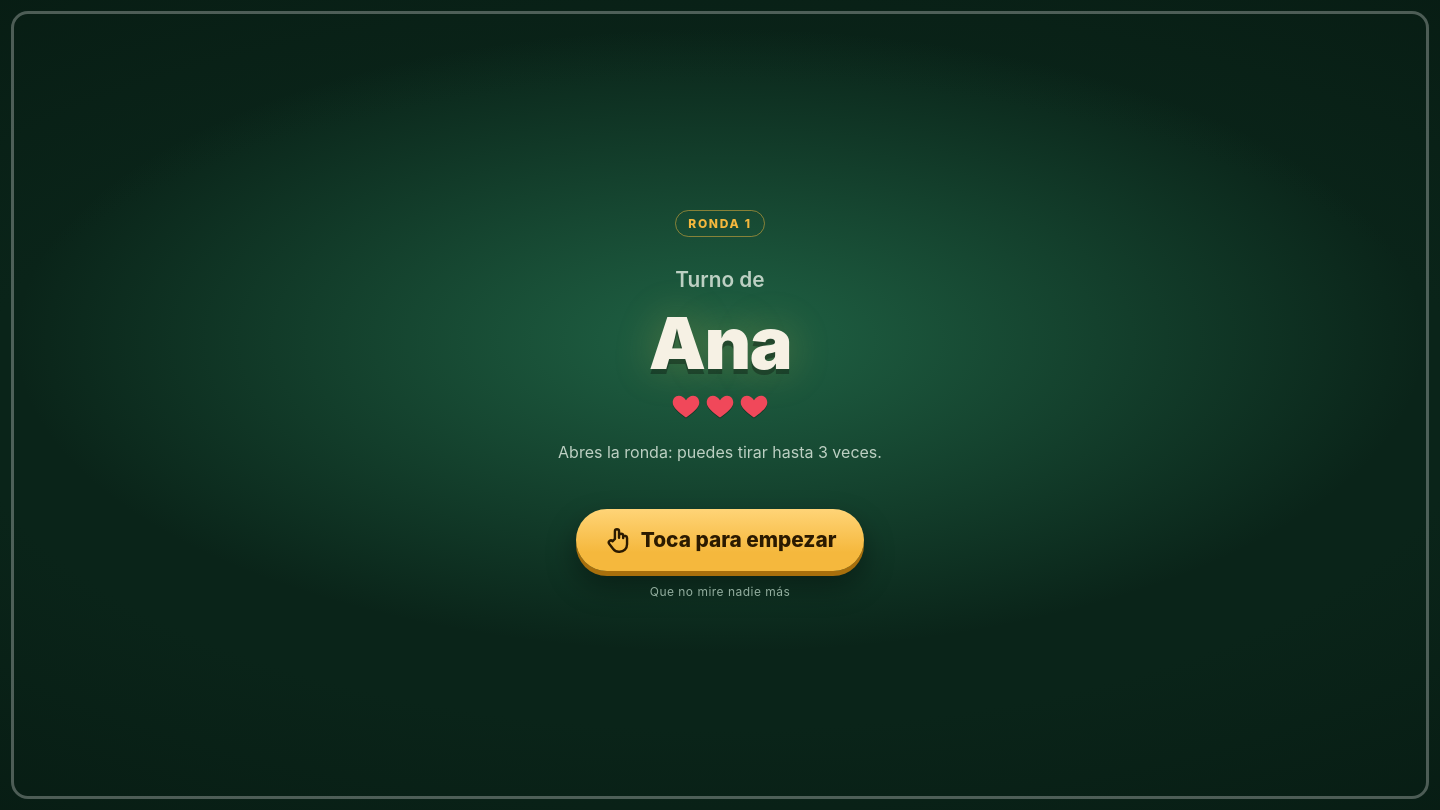
it: un turno completo: tirar, guardar, volver a tirar y plantarse con los 5 dados
Click the button at (86, 405), box [0,0,1439,809]
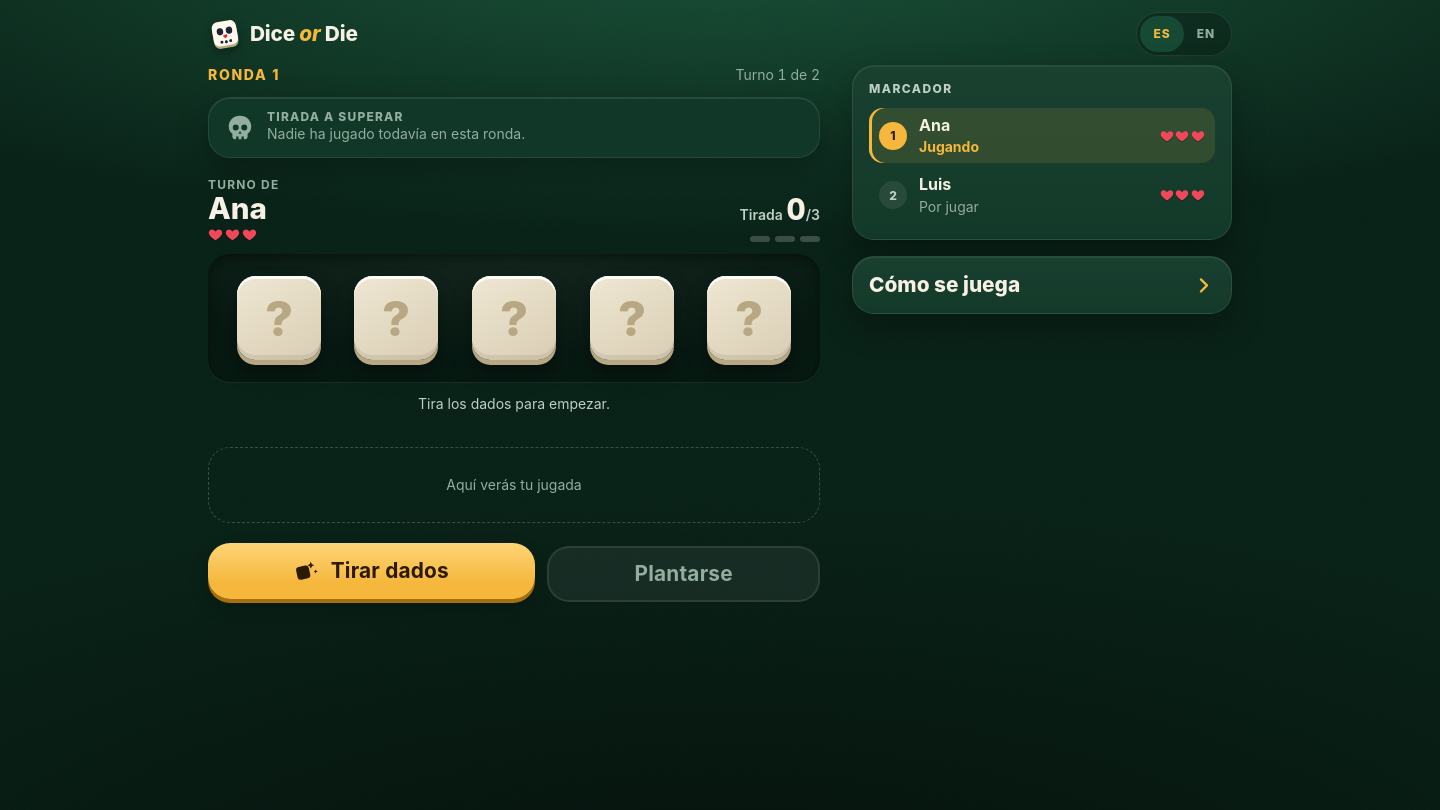
Expected: the 1st button "?" is disabled, [237,276,321,360]
Expected: the 2nd button "?" is disabled, [354,276,438,360]
Expected: the 3rd button "?" is disabled, [472,276,556,360]
Click the button "Tirar dados" at (372, 571), box [208,543,535,599]
Wait 500 ms
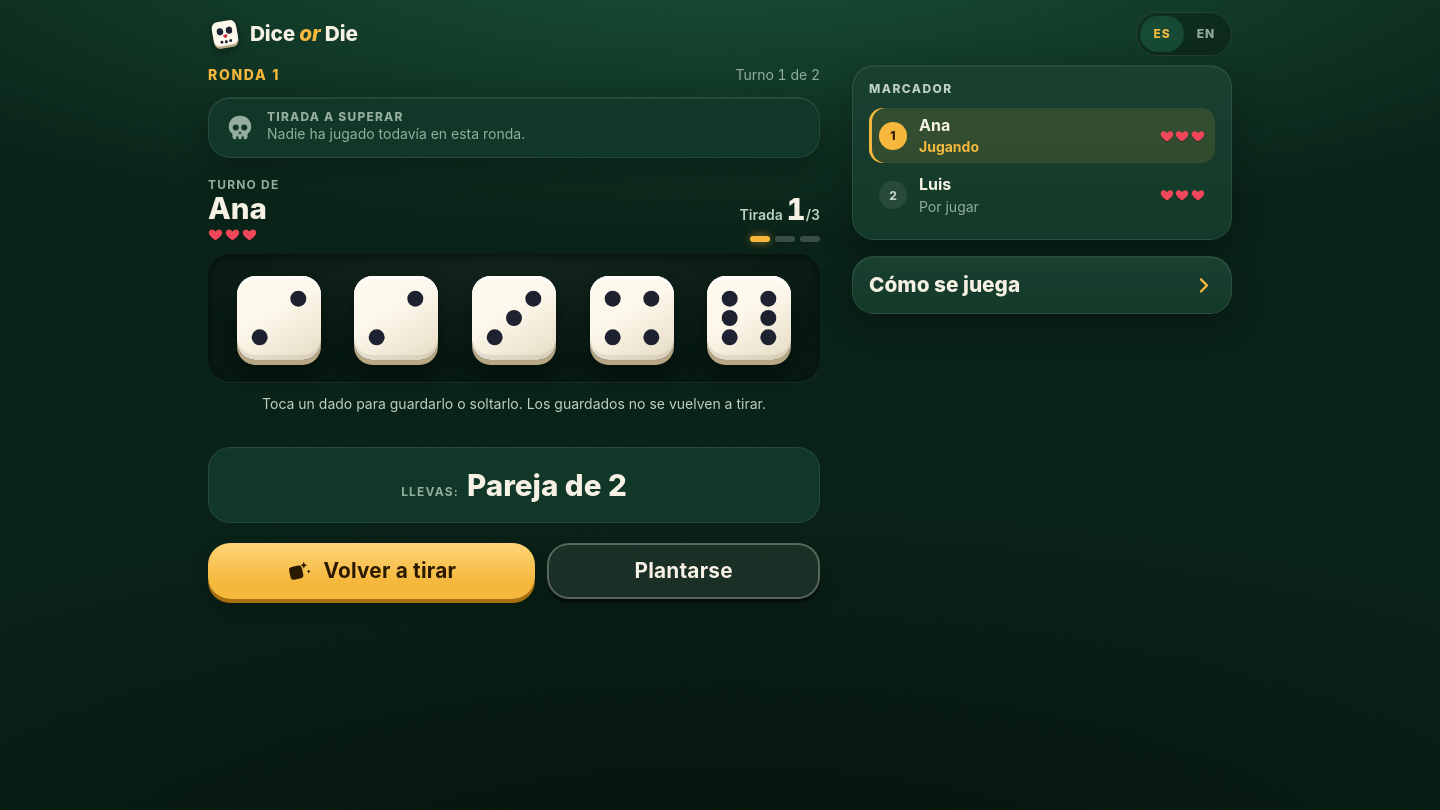
Expected: the element showing "Tirada 1/3" is shown, [740,188,820,230]
Click the 1st button named "Dado: 2" at (279, 318), box [237,276,321,360]
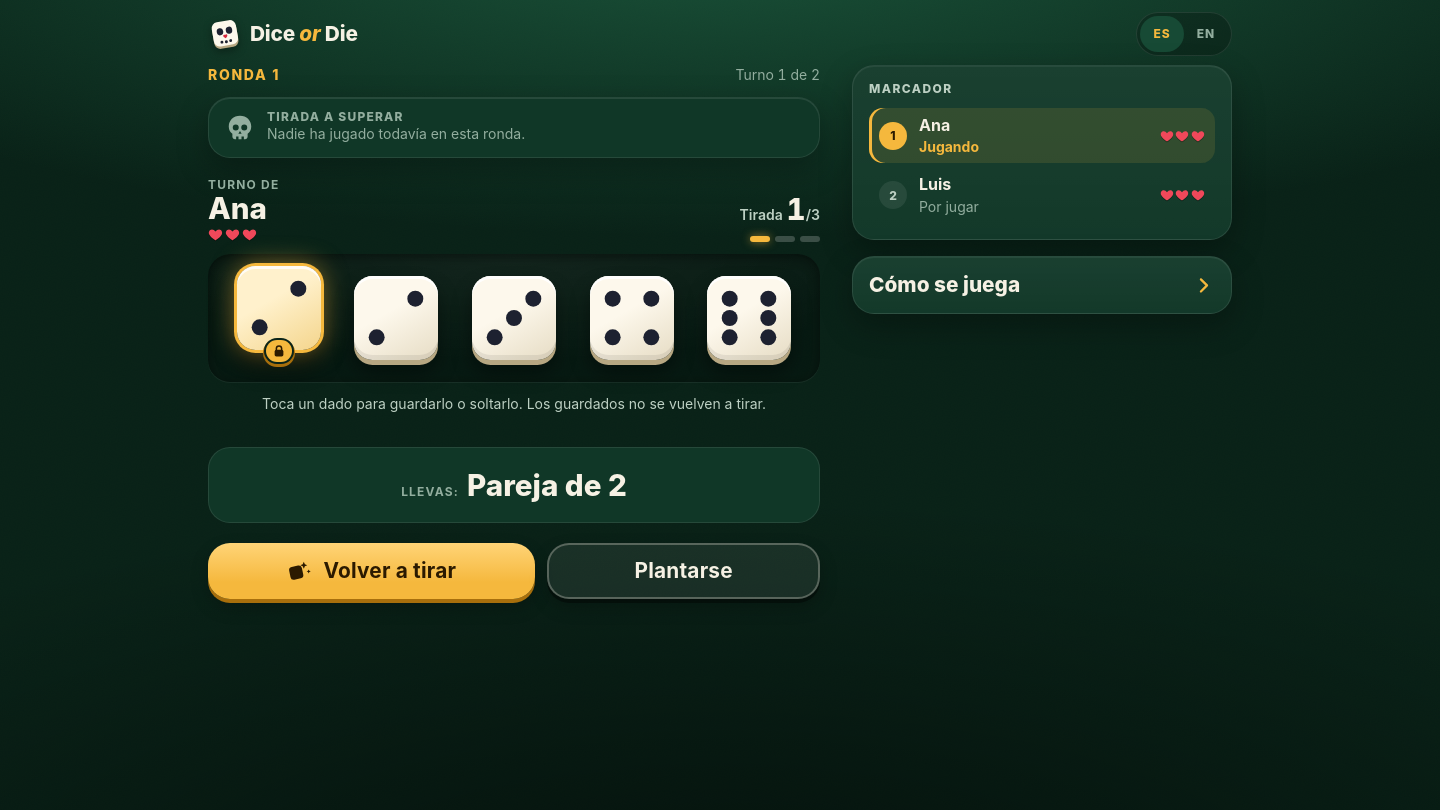
Click the button named "Dado: 2" at (396, 318), box [354,276,438,360]
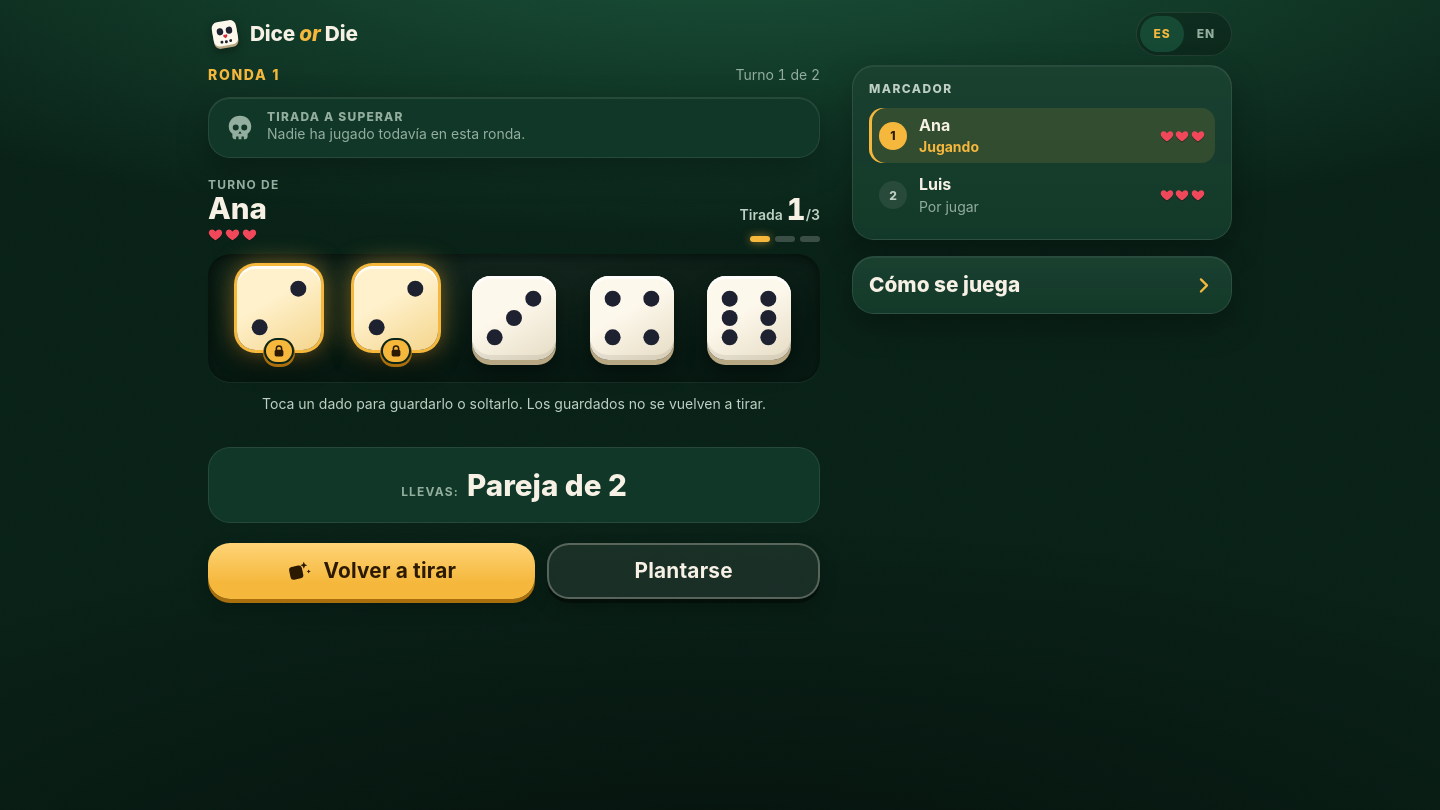
Expected: the 1st button named "Dado: 2, guardado" is pressed, [237,266,321,350]
Expected: the 1st button named "Dado: 2, guardado" has attribute aria-label="Dado: 2, guardado", [237,266,321,350]
Click the button "Volver a tirar" at (372, 571), box [208,543,535,599]
Wait 500 ms
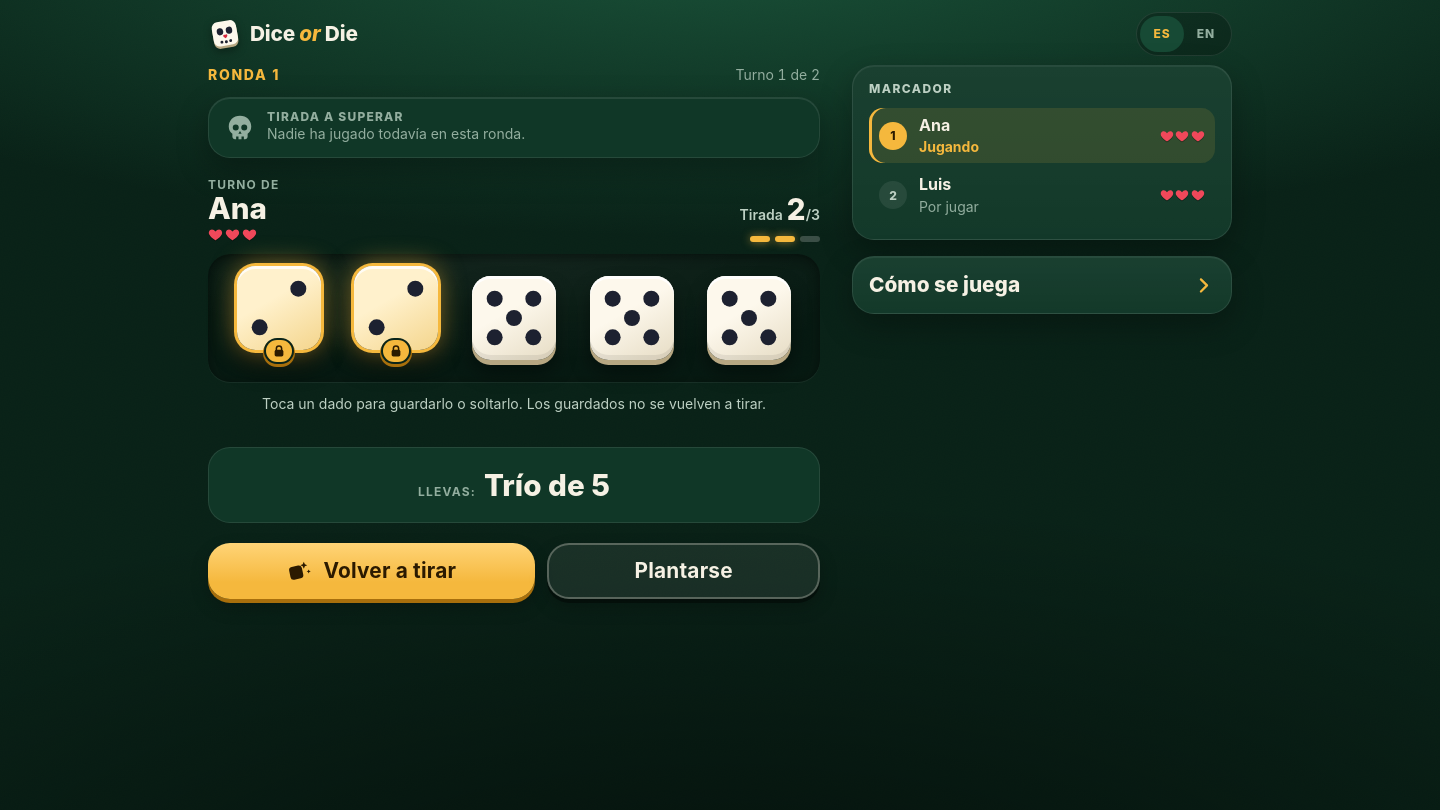
Click the button "Plantarse" at (684, 571), box [547,543,820,599]
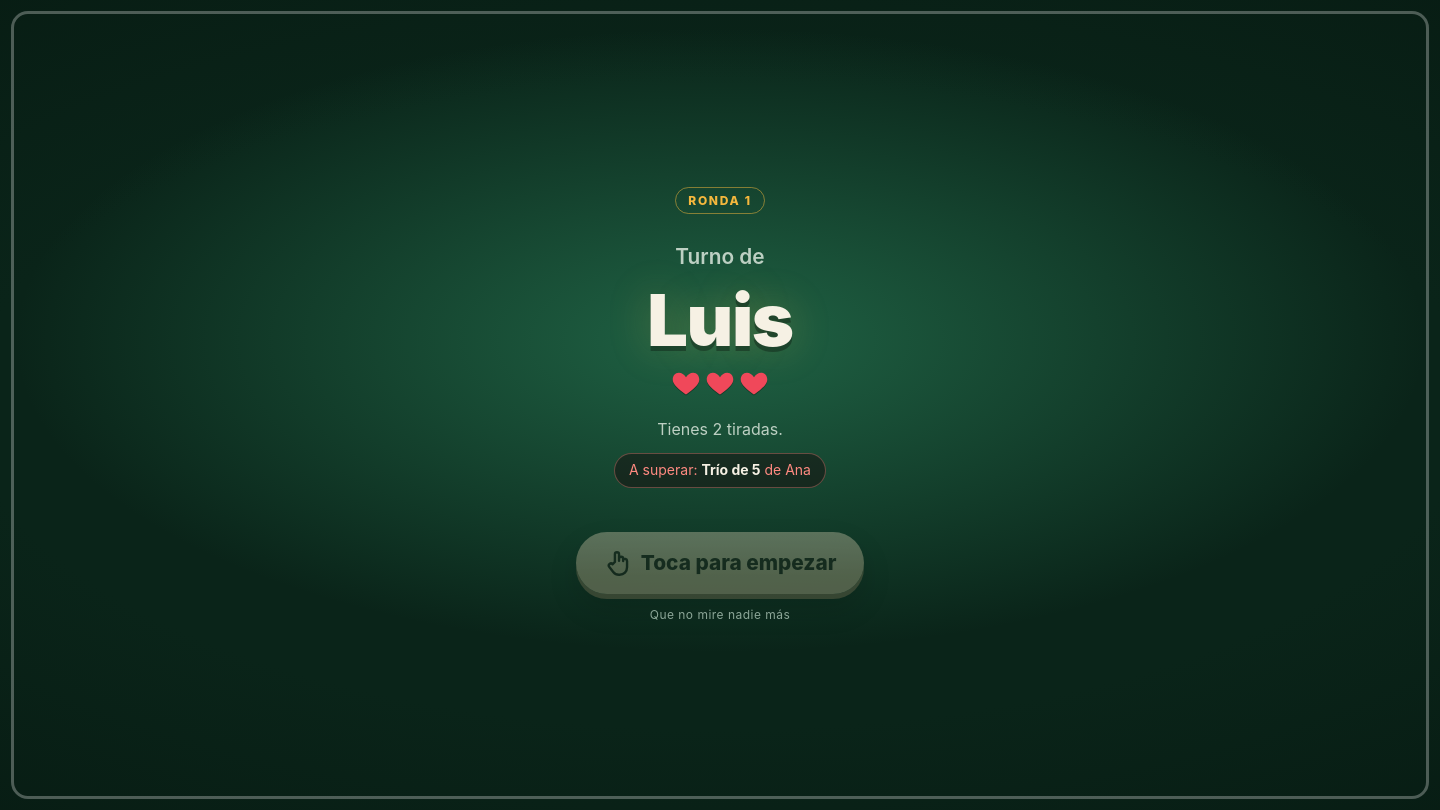
Expected: the button shows "Tienes 2 tiradas."
